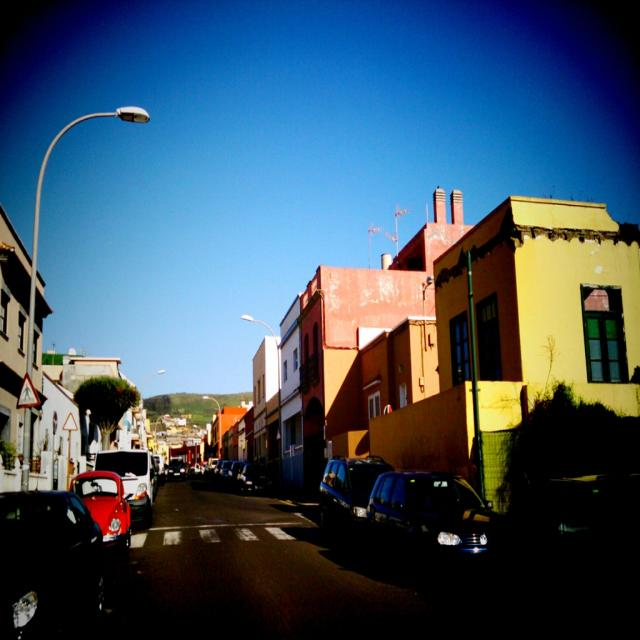car: (364, 463, 509, 576), (167, 457, 188, 476)
